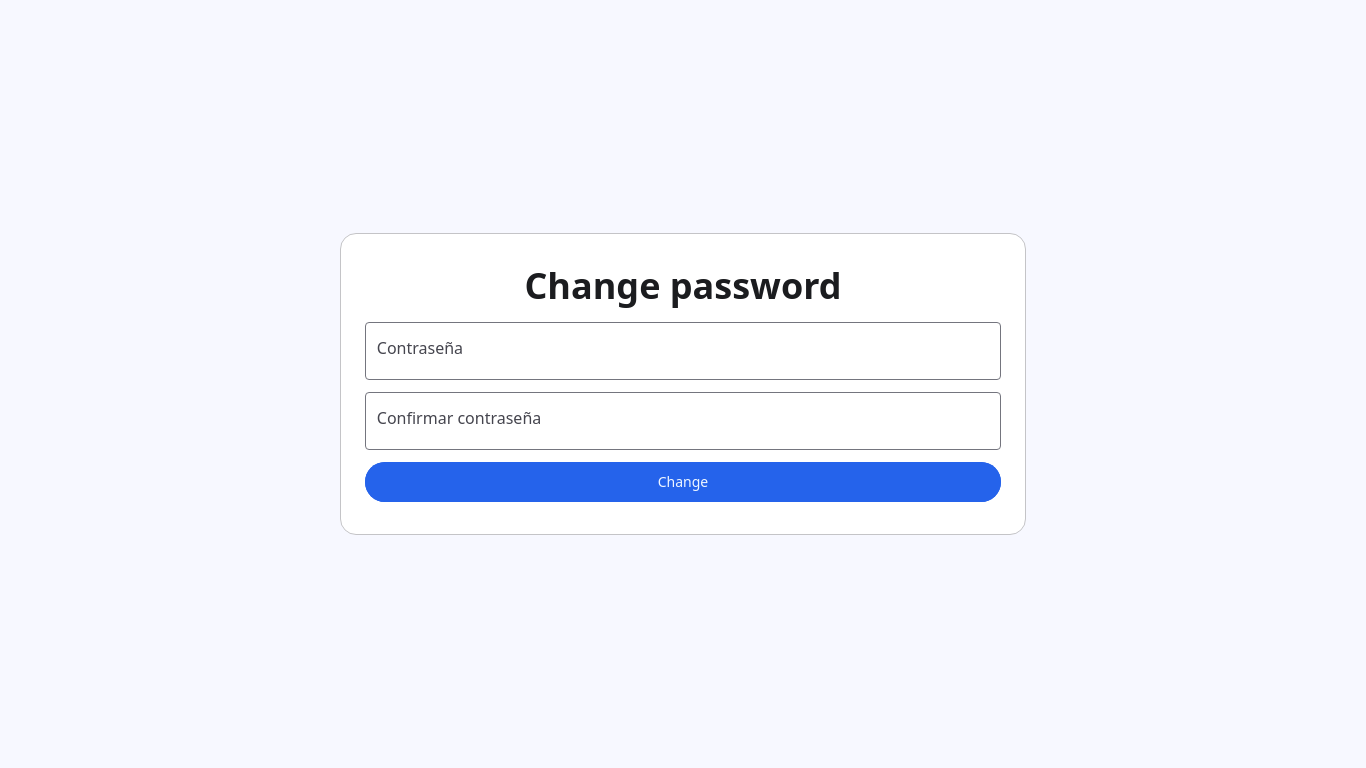
Test: Save password page tests › After clicking › should show the following message if the credentials are good and the token is invalid
Type "1234" into the password field labelled "Contraseña" at (666, 351), box x1=366 y1=323 x2=966 y2=379
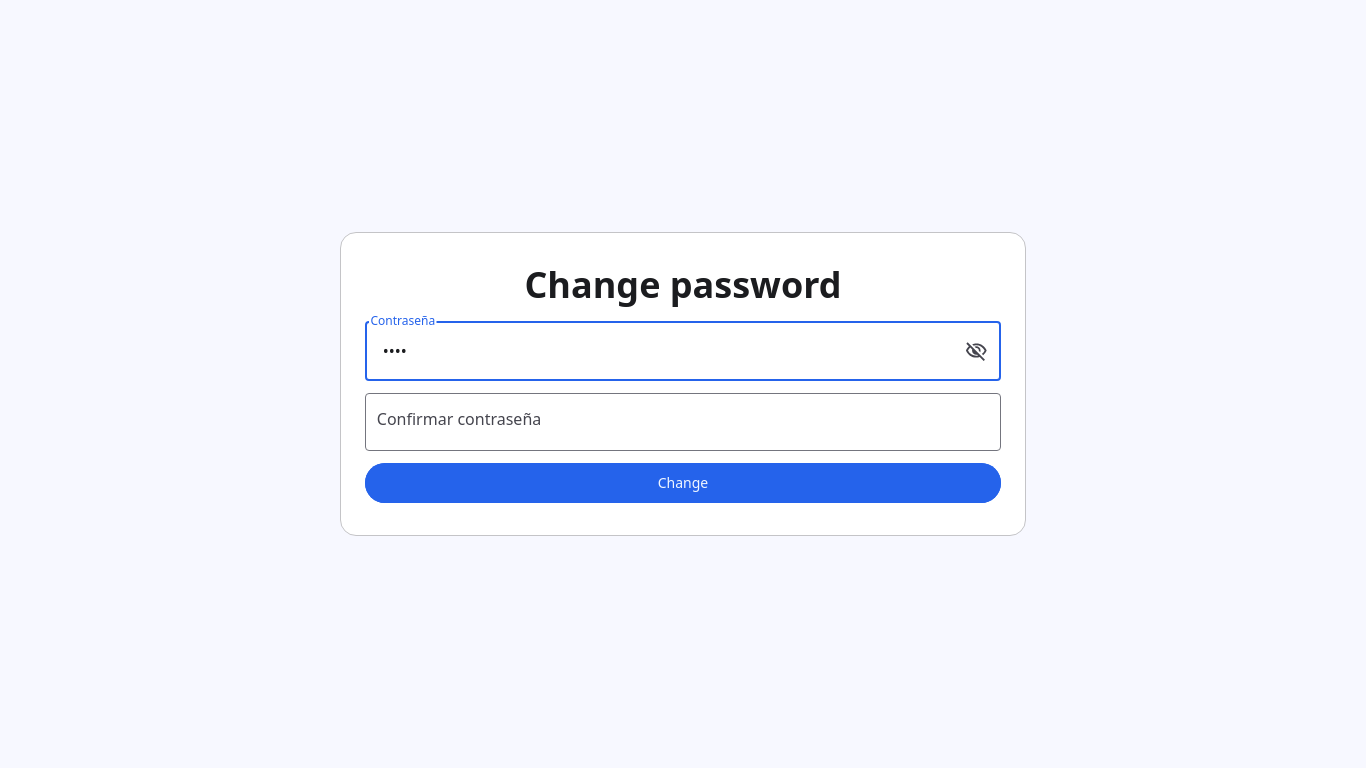
Type "1234" into the password field labelled "Confirmar contraseña" at (666, 422), box x1=366 y1=394 x2=966 y2=450
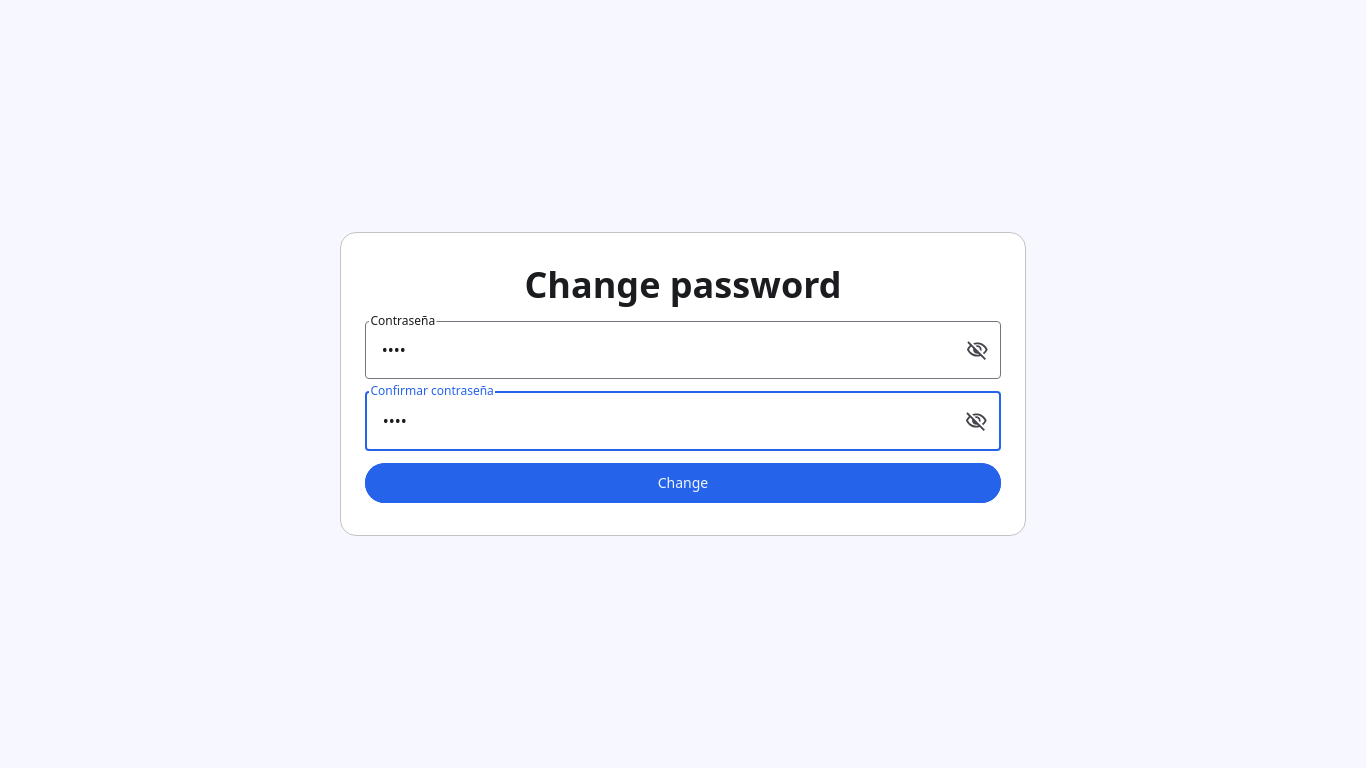
Click the button at (683, 483), box x1=365 y1=463 x2=1001 y2=503
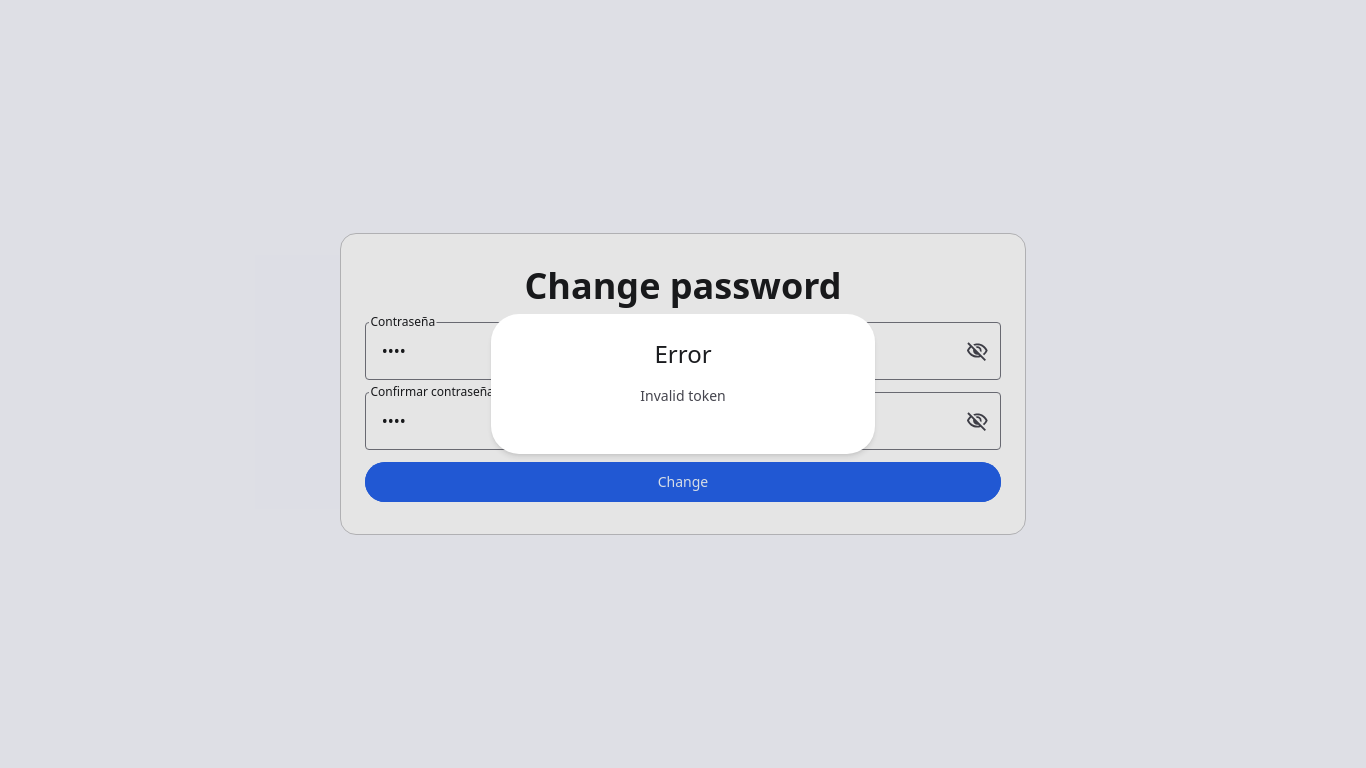
Now the heading "Error" is shown, box x1=654 y1=338 x2=712 y2=370
Now the text "Invalid token" is shown, box x1=640 y1=386 x2=726 y2=406
